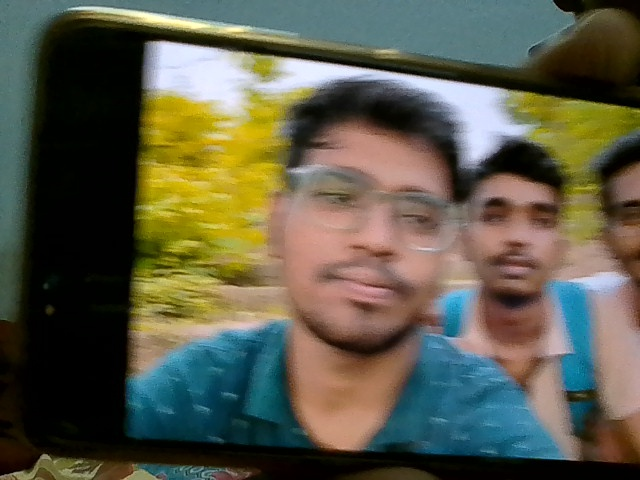real: (257, 56, 476, 367), (452, 121, 587, 313)
